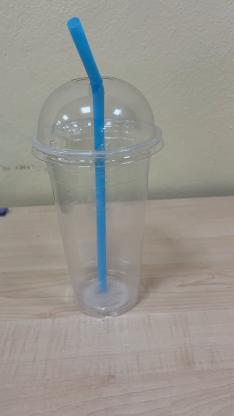Plastic Cup: (30, 76, 166, 320)
